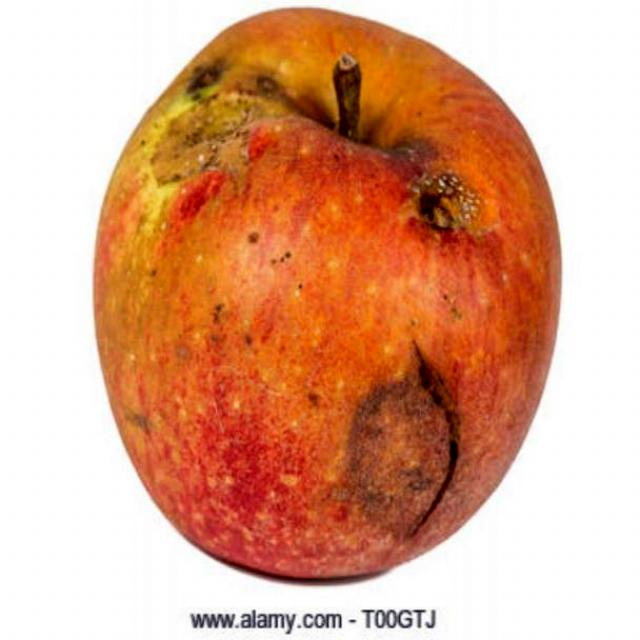ROT: (68, 62, 568, 589)
